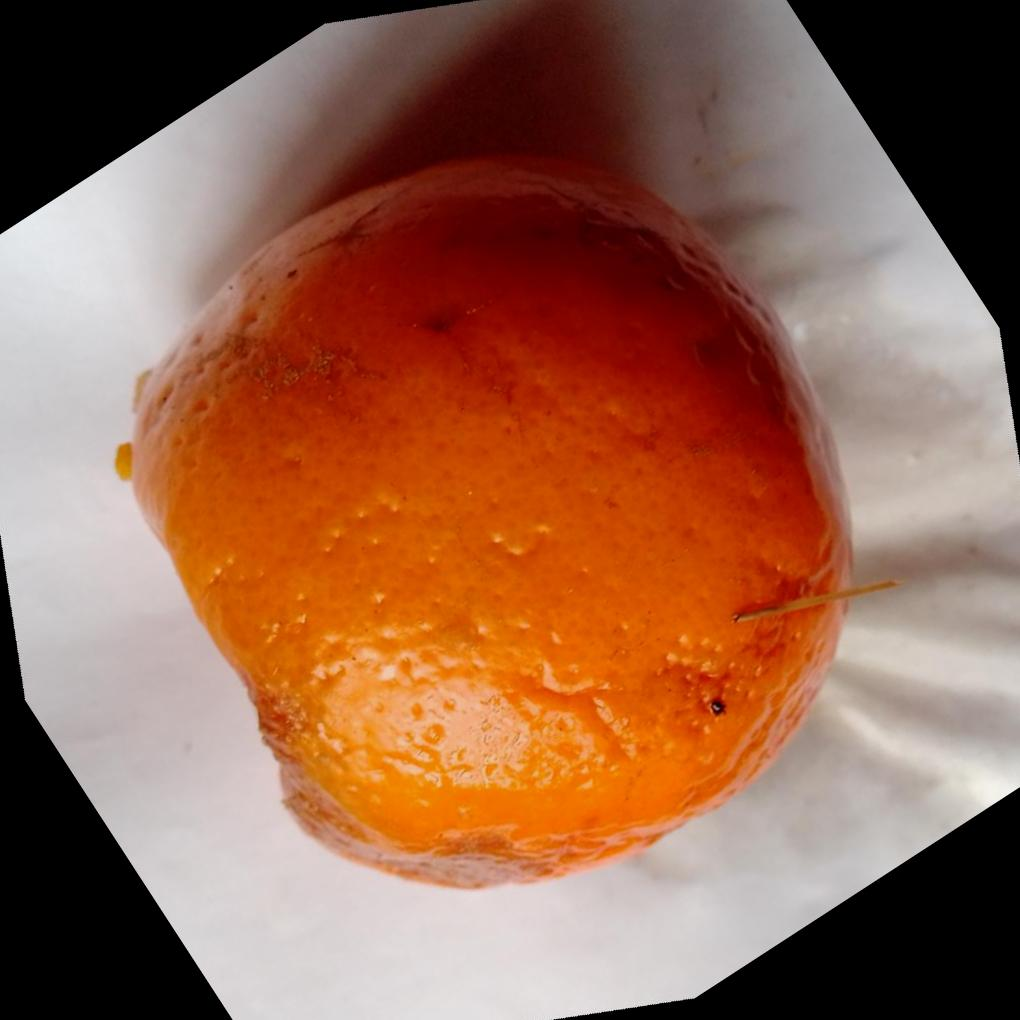FreshOrange: (116, 147, 863, 891)
